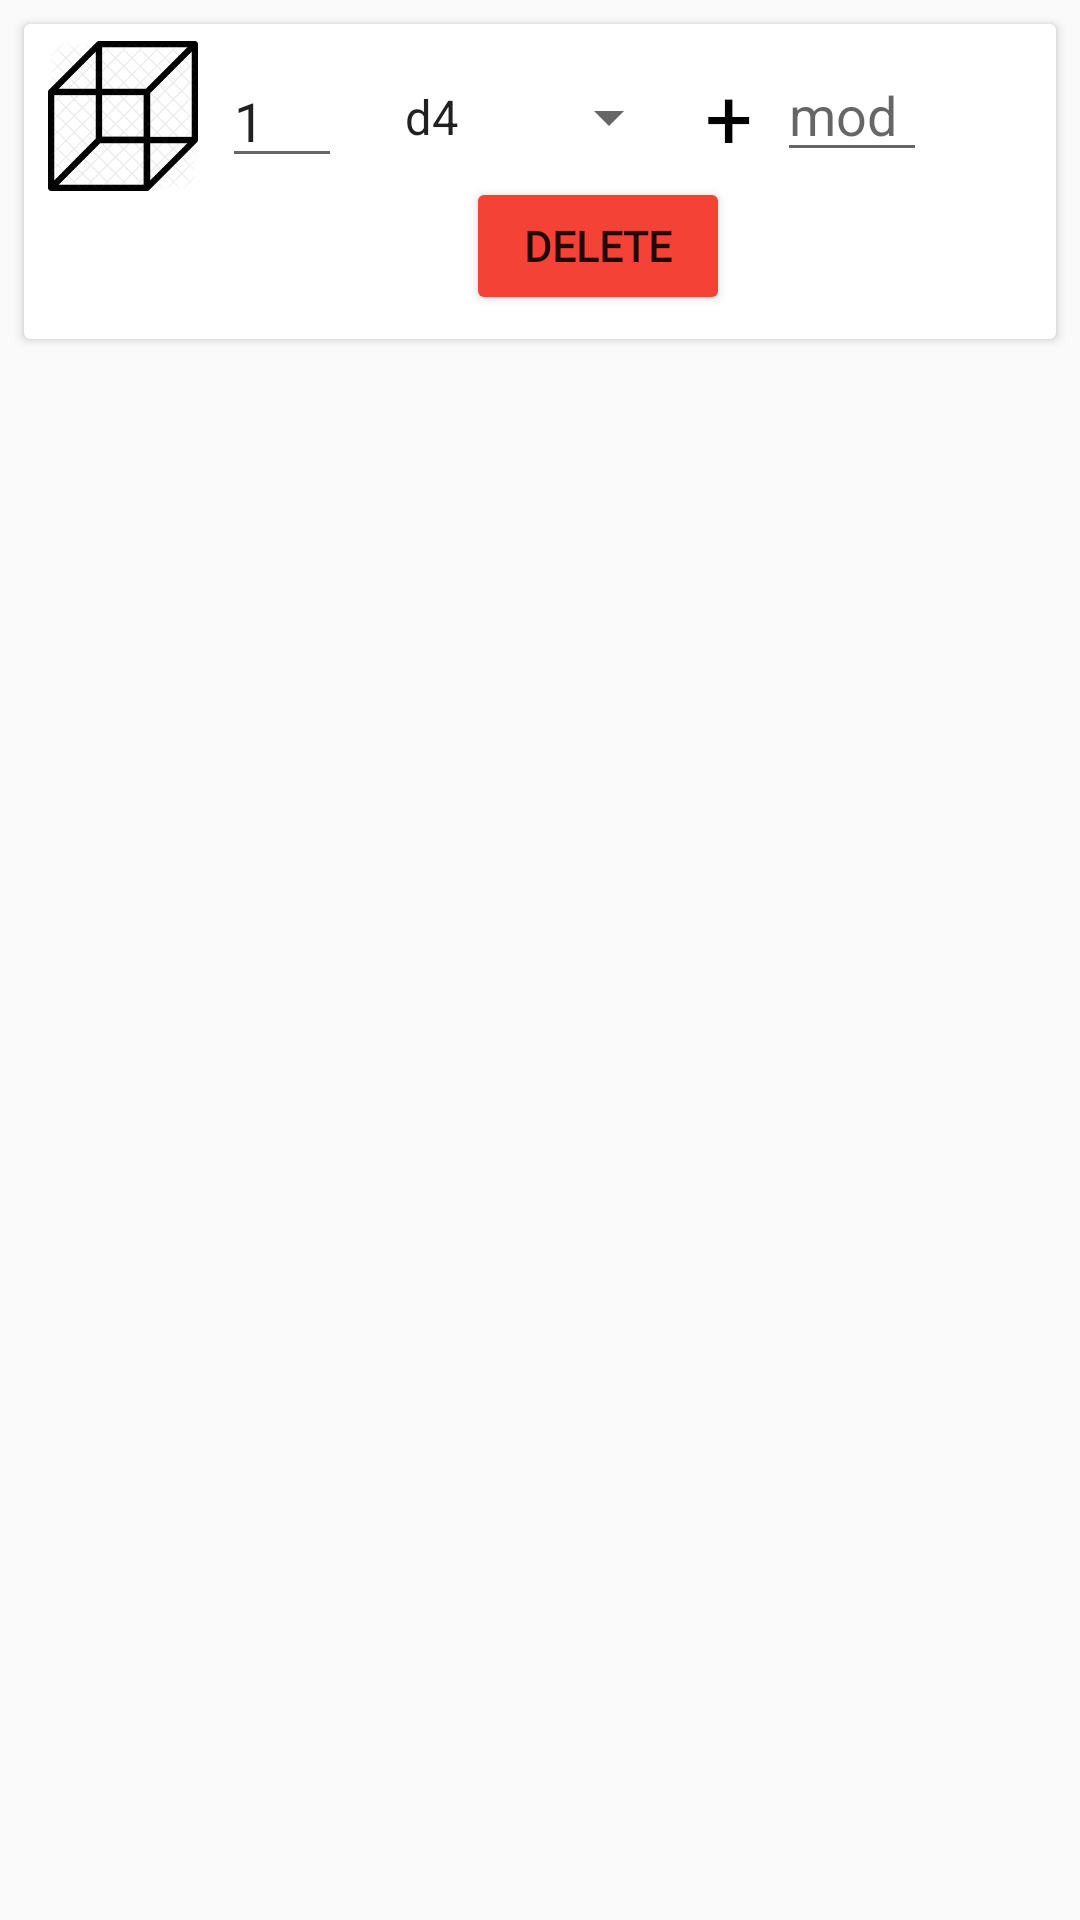

Screen size 1080w x 1920h. Icon name, then its center in pixels as [x,y]:
cube: [123,116]
